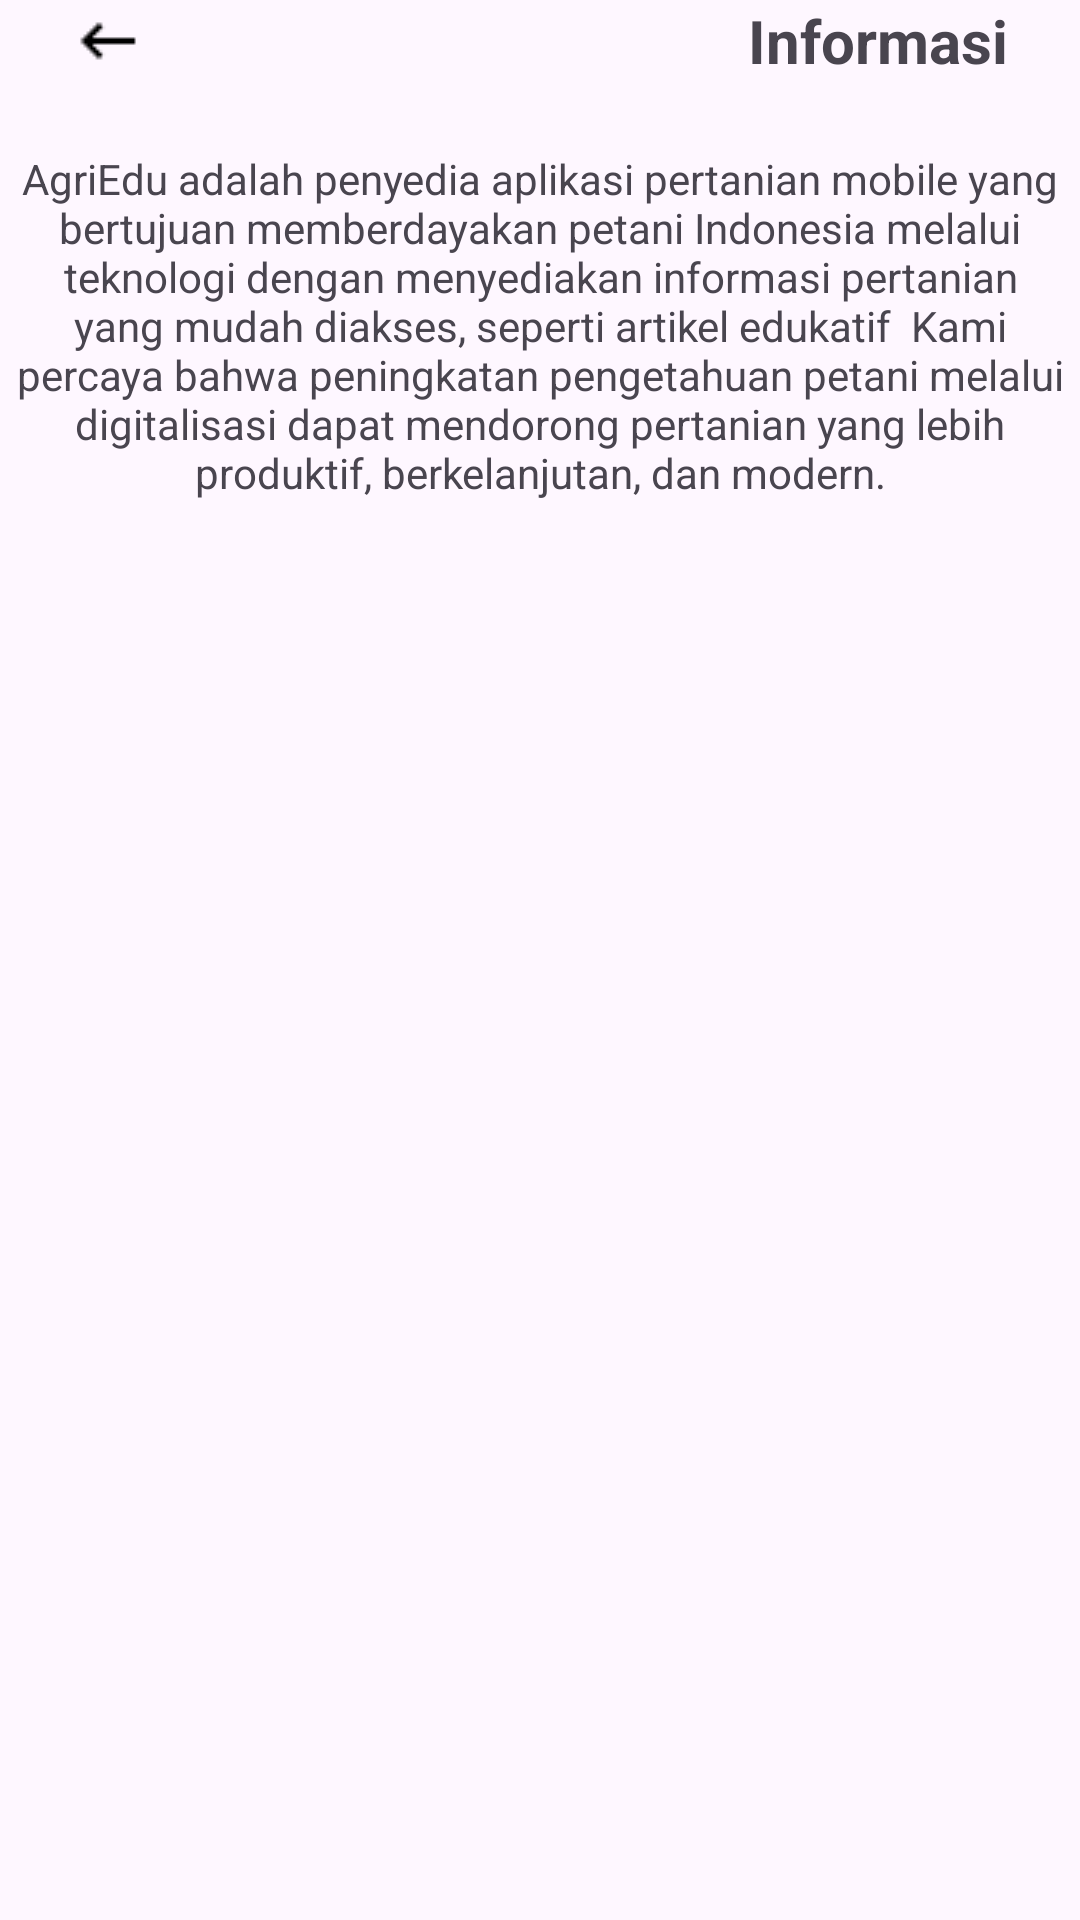

Icon bounding boxes for this 1080 x 1920 phone screenshot, format (x1=x1, y1=y1, x2=x2, y2=y2):
keyboard backspace: (x1=80, y1=22, x2=136, y2=60)
